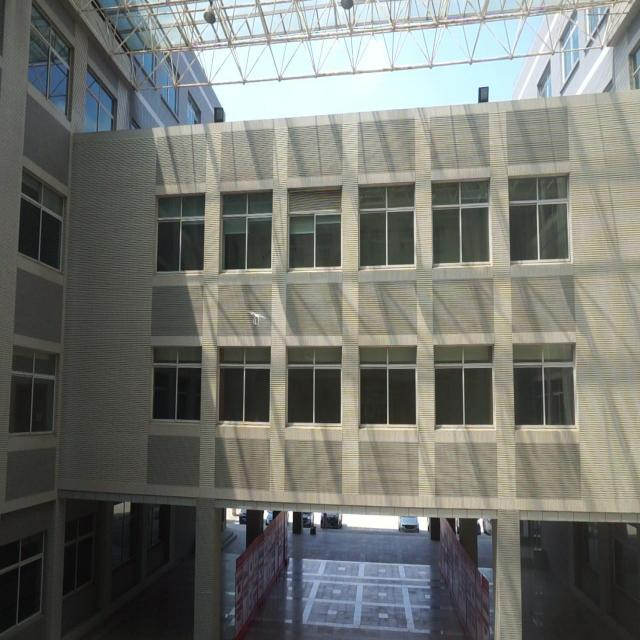UAV: (250, 312, 266, 325)
